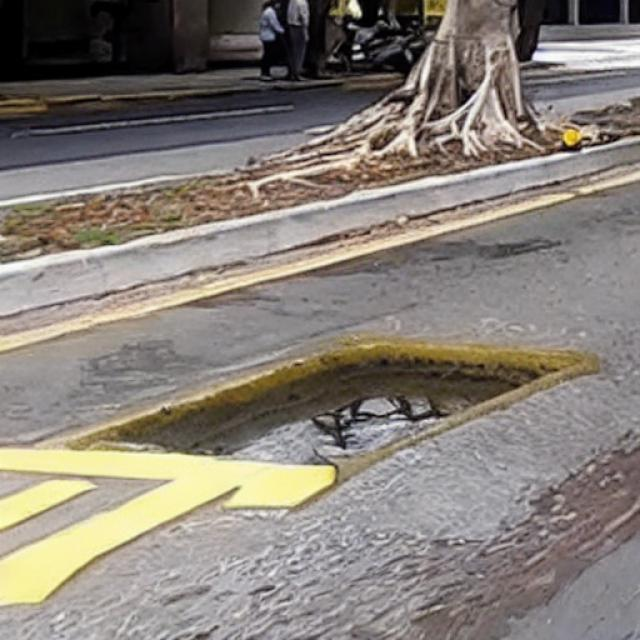puddle: (131, 356, 566, 465)
